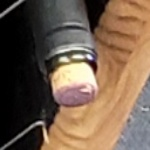bottle: (28, 34, 117, 114)
